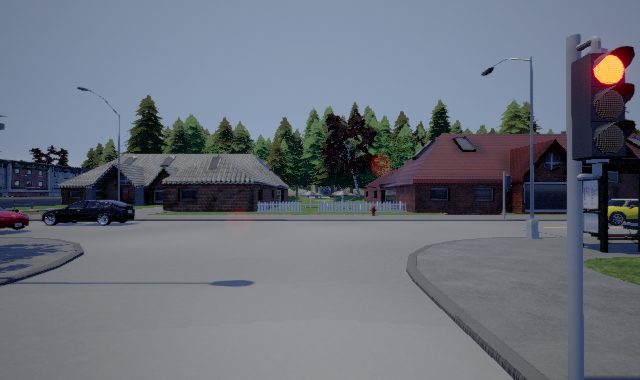traffic_light: (571, 45, 637, 161)
vehicle: (42, 200, 135, 226), (608, 199, 638, 226), (1, 207, 29, 230)
